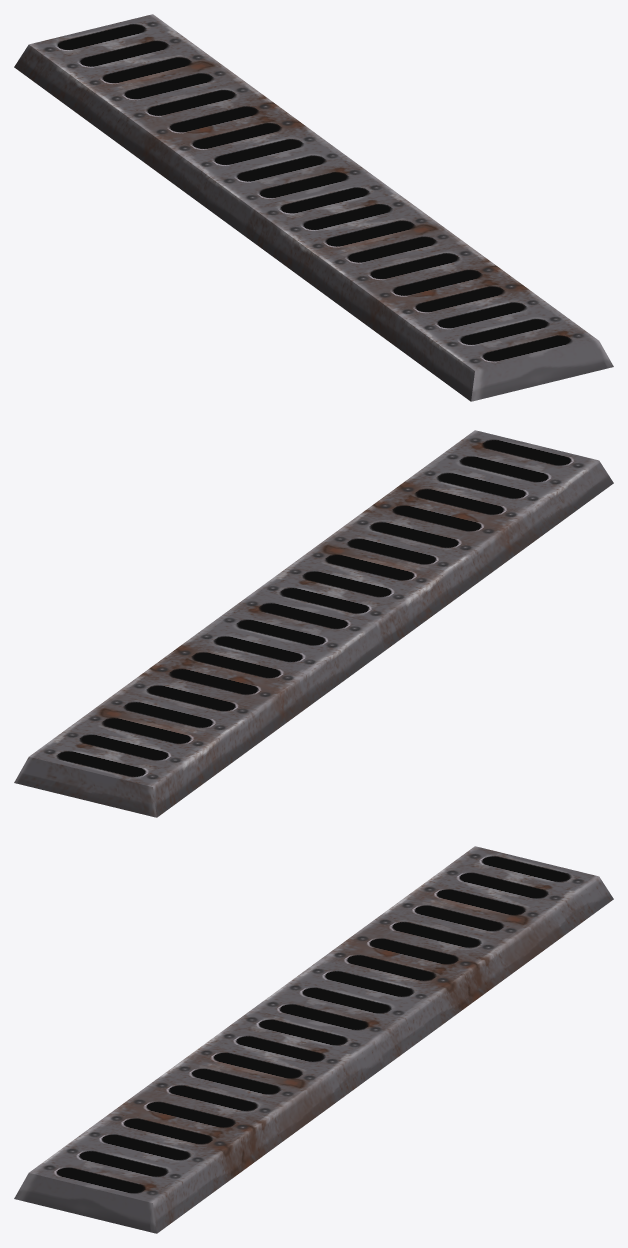
Rendered from manhole08.fbx.
3 renders of one model, top to bottom at view 1: azimuth 30°, elevation 25°; view 2: azimuth 150°, elevation 25°; view 3: azimuth 330°, elevation 25°, orthographic.
Visible parts, largest first — view 1: manhole08; view 2: manhole08; view 3: manhole08.
Part boxes in pixels (left/top/right/bottom): manhole08: left=14, top=14, right=613, bottom=401; manhole08: left=14, top=430, right=613, bottom=817; manhole08: left=14, top=846, right=613, bottom=1233.
Size of the model in its own units: 30.57 by 5 by 169.
